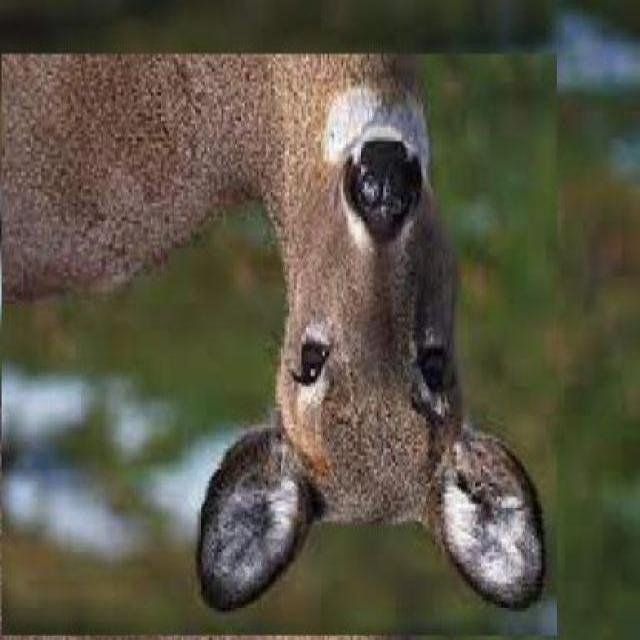deer: (1, 54, 558, 637)
